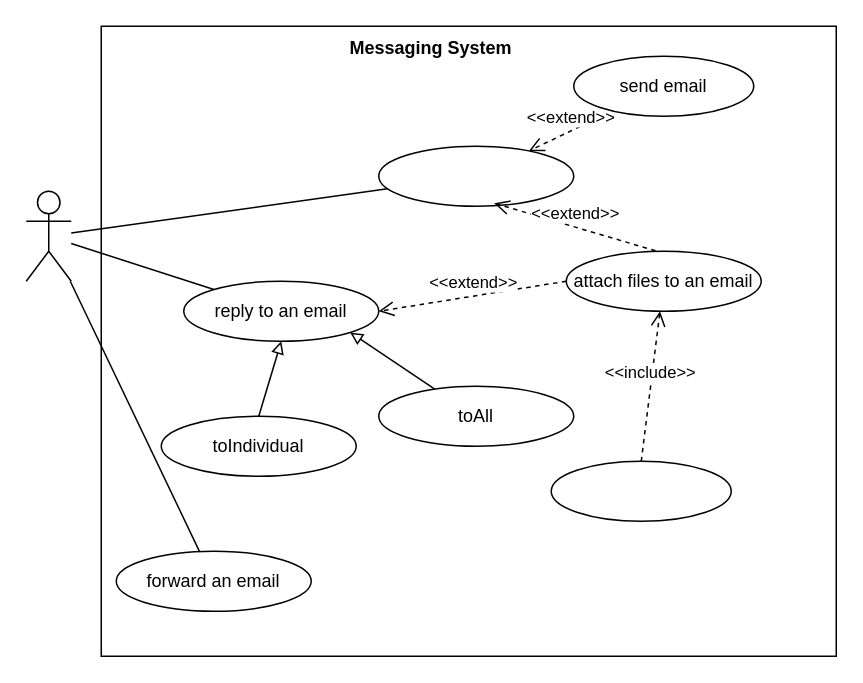
Image size: 863x683. Some labels were removed from this diagram. The shapes that lost their labels are listed below. From the top down, each one's centre as x and y in pixels, then its label:
At (475,175): "compose email".
At (48,235): "user".
At (640,490): "antivirus scan".
